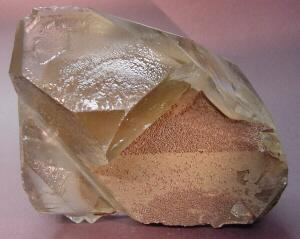calcite: (9, 8, 275, 222)
